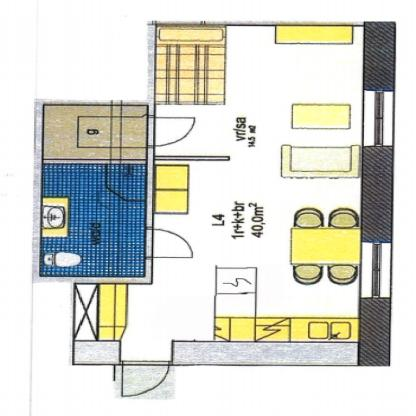door: (120, 363, 169, 398), (147, 228, 195, 260), (150, 118, 195, 144)
window: (361, 90, 394, 146), (361, 244, 392, 297)
zone: (74, 26, 359, 364), (43, 166, 146, 275), (47, 103, 147, 157)
